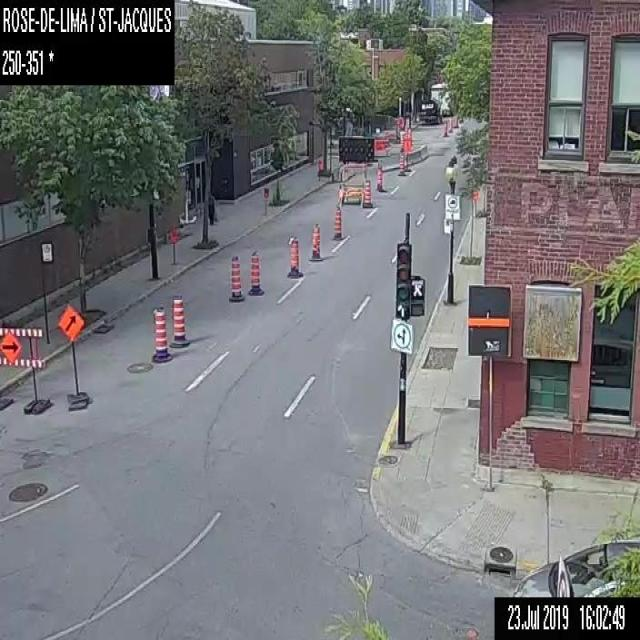construction: (336, 136, 376, 200), (0, 323, 44, 368), (150, 303, 170, 363), (58, 300, 86, 341), (170, 290, 189, 350), (286, 232, 303, 279), (246, 246, 262, 295), (228, 253, 244, 301), (307, 220, 322, 260), (168, 221, 177, 262), (373, 136, 389, 158), (333, 204, 342, 239), (361, 180, 372, 208), (404, 138, 412, 170), (397, 151, 405, 177), (374, 166, 382, 192), (316, 155, 324, 177), (260, 185, 268, 198), (443, 116, 447, 137), (400, 130, 404, 150), (448, 116, 452, 132), (452, 114, 456, 126), (0, 350, 4, 358), (0, 333, 3, 343)
vehicle: (507, 540, 639, 600)
